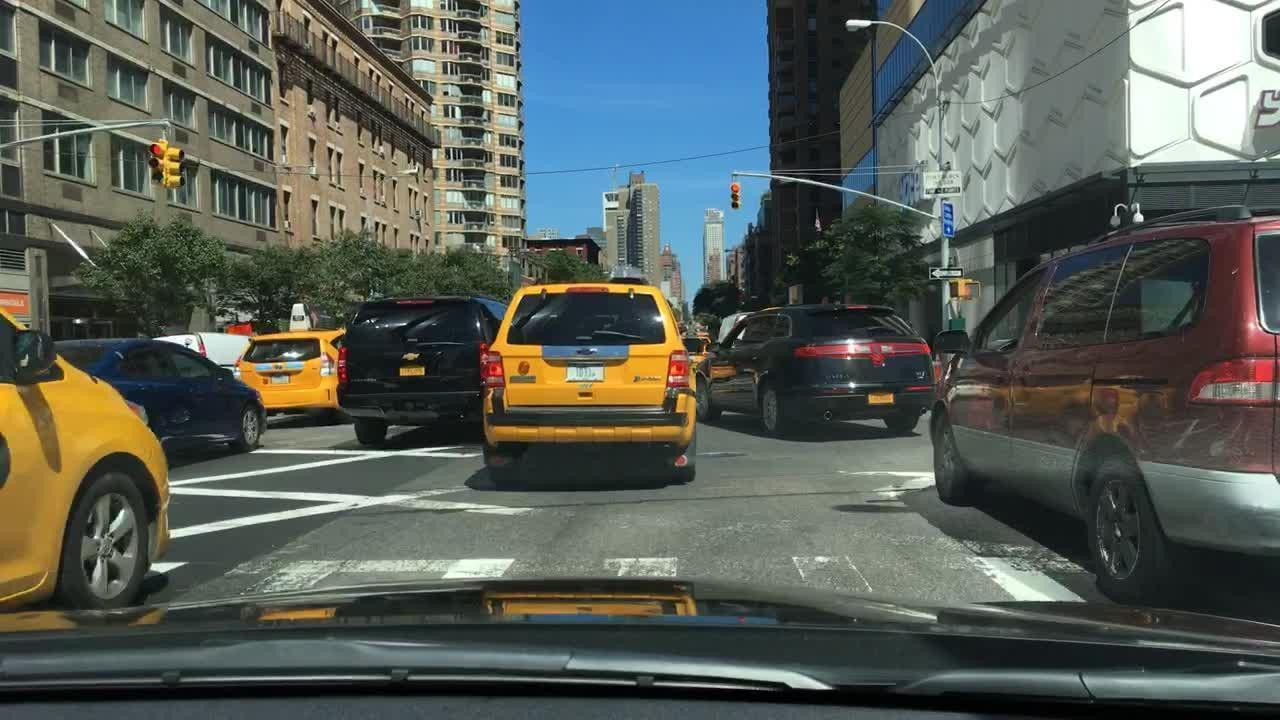chevrolet: (396, 349, 425, 364)
lincoln: (872, 335, 883, 372)
